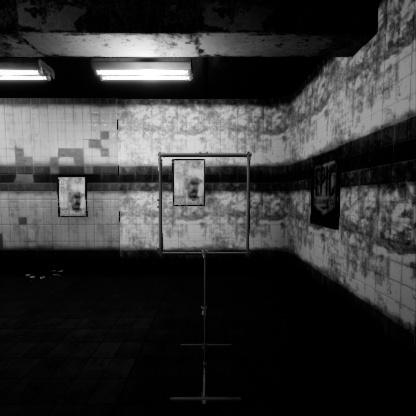gate: (158, 159, 260, 263)
